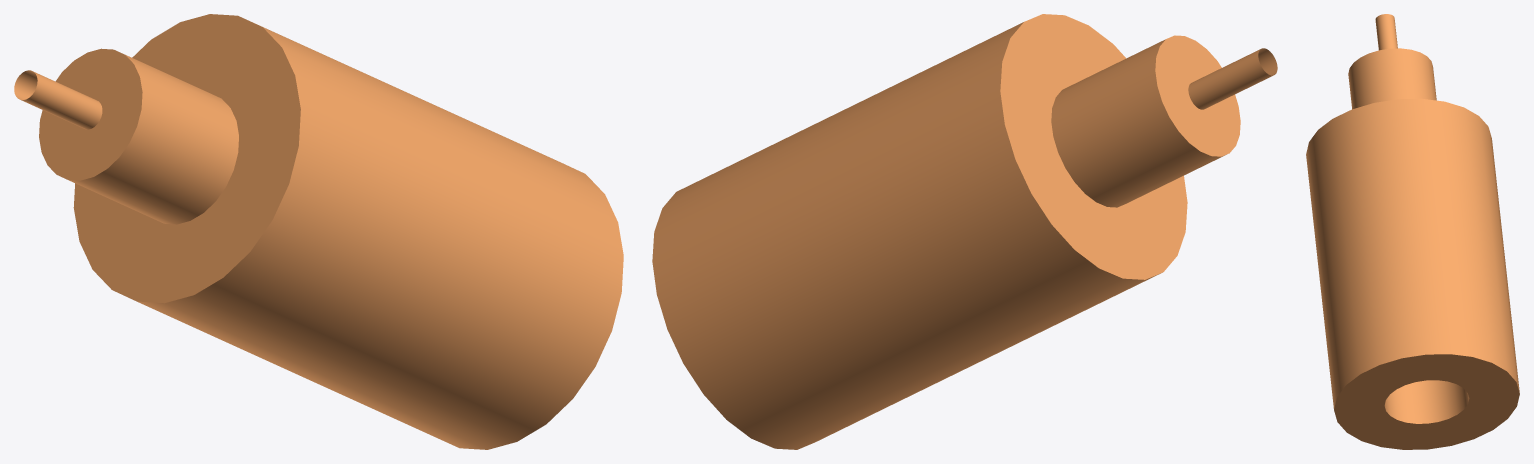
File: RightLeg.FBX
3 renders of one model, left to right at view 1: azimuth 30°, elevation 25°; view 2: azimuth 150°, elevation 25°; view 3: azimuth 270°, elevation 25°, orthographic. The views are drawn at different scales.
Parts seen in each view (by area): view 1: RightLeg; view 2: RightLeg; view 3: RightLeg.
Part boxes in pixels (left/top/right/bottom): RightLeg: left=14, top=14, right=623, bottom=449; RightLeg: left=652, top=14, right=1277, bottom=449; RightLeg: left=1306, top=14, right=1519, bottom=449.
Bounding box in the file's own units: 7.17 × 5.67 × 3.6.
